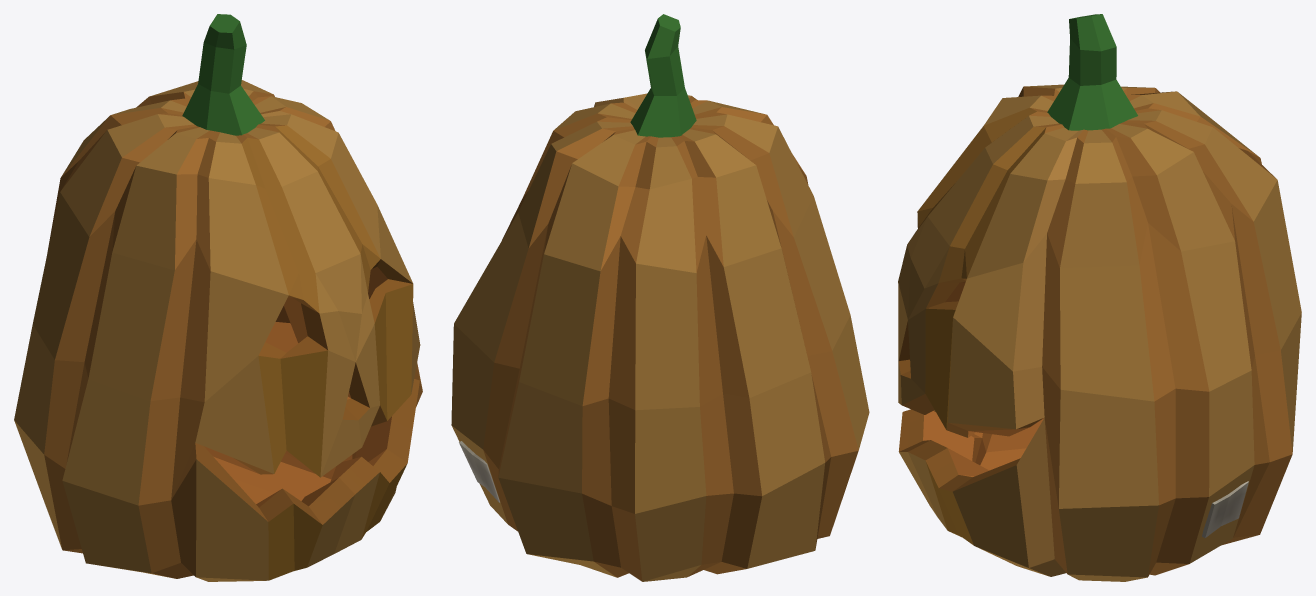
File: SM_Prop_Pumpkin_Lantern_03.glb
3 renders of one model, left to right at view 1: azimuth 30°, elevation 25°; view 2: azimuth 150°, elevation 25°; view 3: azimuth 270°, elevation 25°, orthographic.
Parts seen in each view (by area): view 1: SM_Prop_Pumpkin_Lantern_03; view 2: SM_Prop_Pumpkin_Lantern_03; view 3: SM_Prop_Pumpkin_Lantern_03.
Part boxes in pixels (x1,y1,x2,y2): SM_Prop_Pumpkin_Lantern_03: [14, 14, 422, 581]; SM_Prop_Pumpkin_Lantern_03: [451, 14, 869, 581]; SM_Prop_Pumpkin_Lantern_03: [898, 14, 1301, 581].
Size of the model in its own units: 55.91 by 77.55 by 54.05.
1 material, 1 textured.
